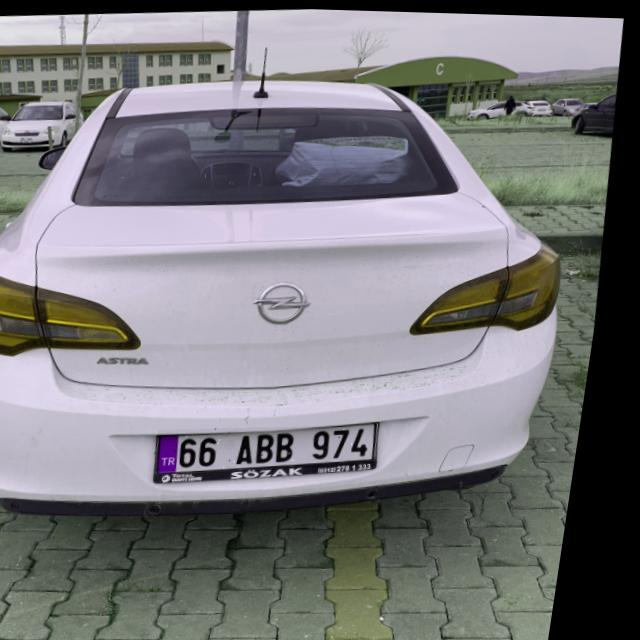license_plate: (167, 417, 393, 474)
